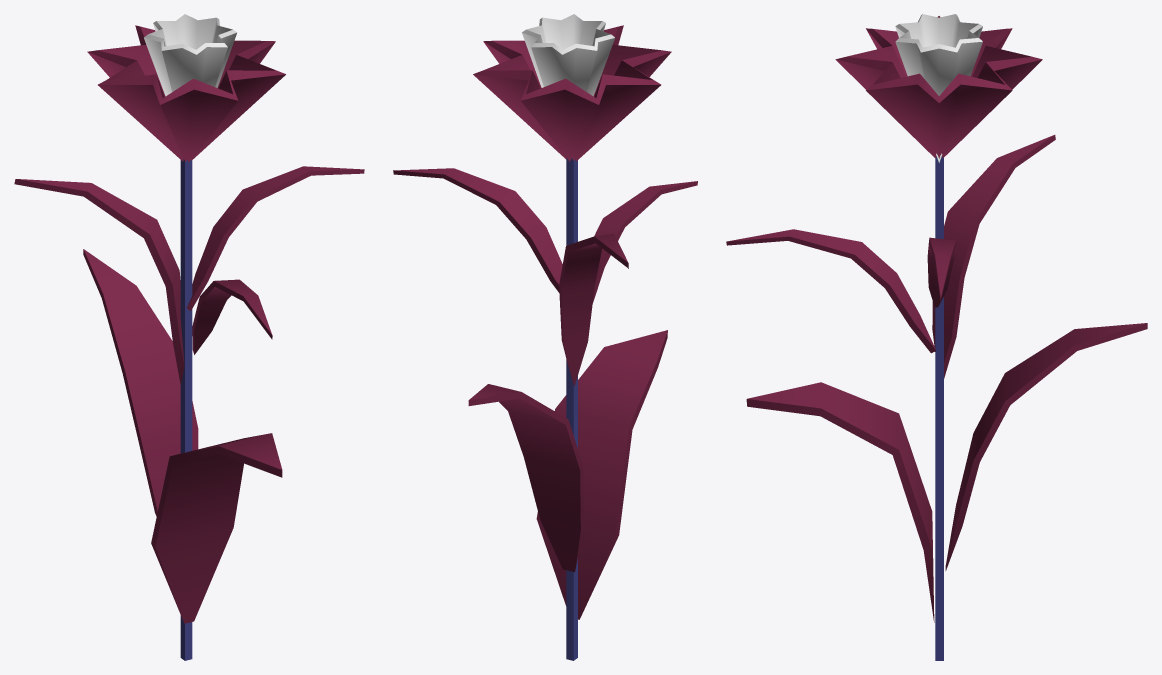
File: flower02_red.fbx
3 views of the same model, side by side, from view 1: azimuth 30°, elevation 25°; view 2: azimuth 150°, elevation 25°; view 3: azimuth 270°, elevation 25° (orthographic).
Parts seen in each view (by area): view 1: flower02_red; view 2: flower02_red; view 3: flower02_red.
Part boxes in pixels (x1,y1,x2,y2): flower02_red: (14, 14, 364, 660); flower02_red: (393, 14, 697, 660); flower02_red: (726, 14, 1147, 660).
Size of the model in its own units: 3.93 by 8.02 by 4.86.
